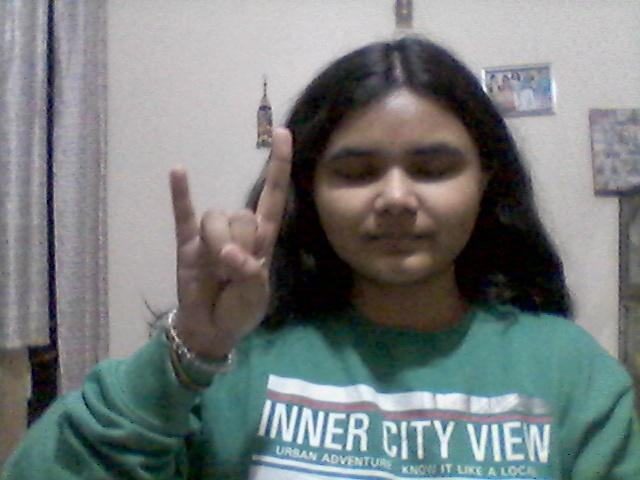ilove you: (164, 124, 303, 359)
